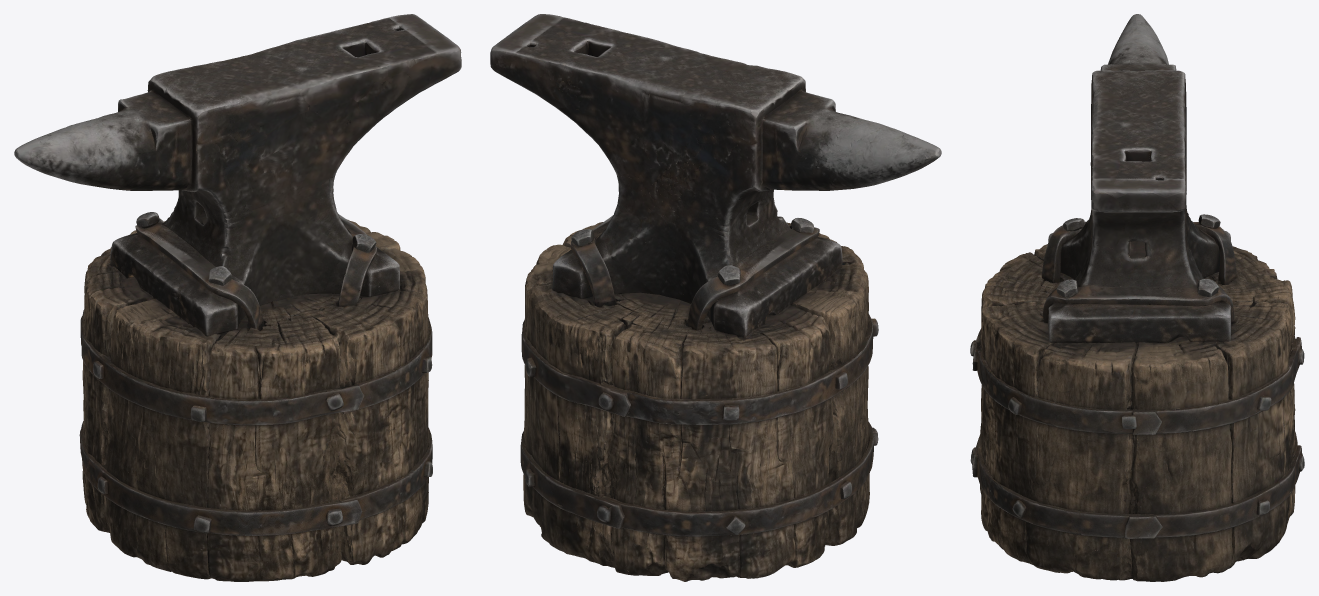
The model's file is anvil.glb.
The picture shows the model from 3 angles, left to right: view 1: azimuth 30°, elevation 25°; view 2: azimuth 150°, elevation 25°; view 3: azimuth 270°, elevation 25°; orthographic projection. The views are drawn at different scales.
Visible parts, largest first — view 1: Mesh_0; view 2: Mesh_0; view 3: Mesh_0.
Part boxes in pixels (box(x1,y1,x2,y2)): Mesh_0: box(14, 14, 461, 581); Mesh_0: box(490, 14, 941, 581); Mesh_0: box(970, 14, 1304, 581).
Size of the model in its own units: 1.9 by 1.89 by 1.39.
1 material, 1 textured.
